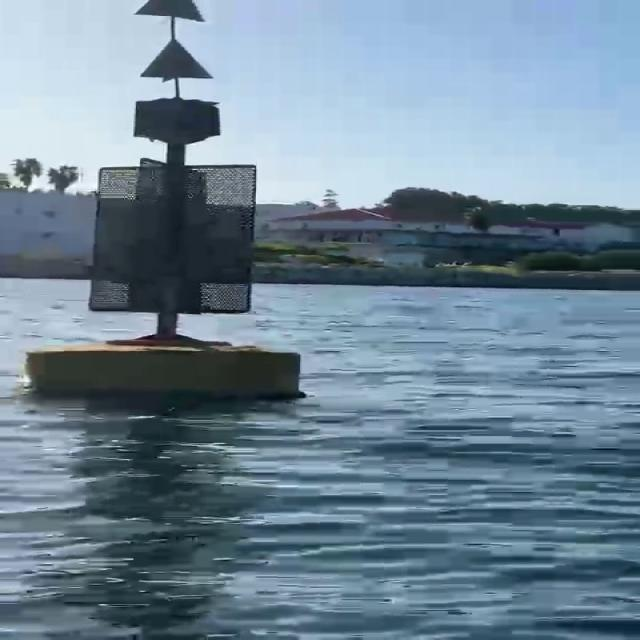marque: (1, 1, 315, 413)
